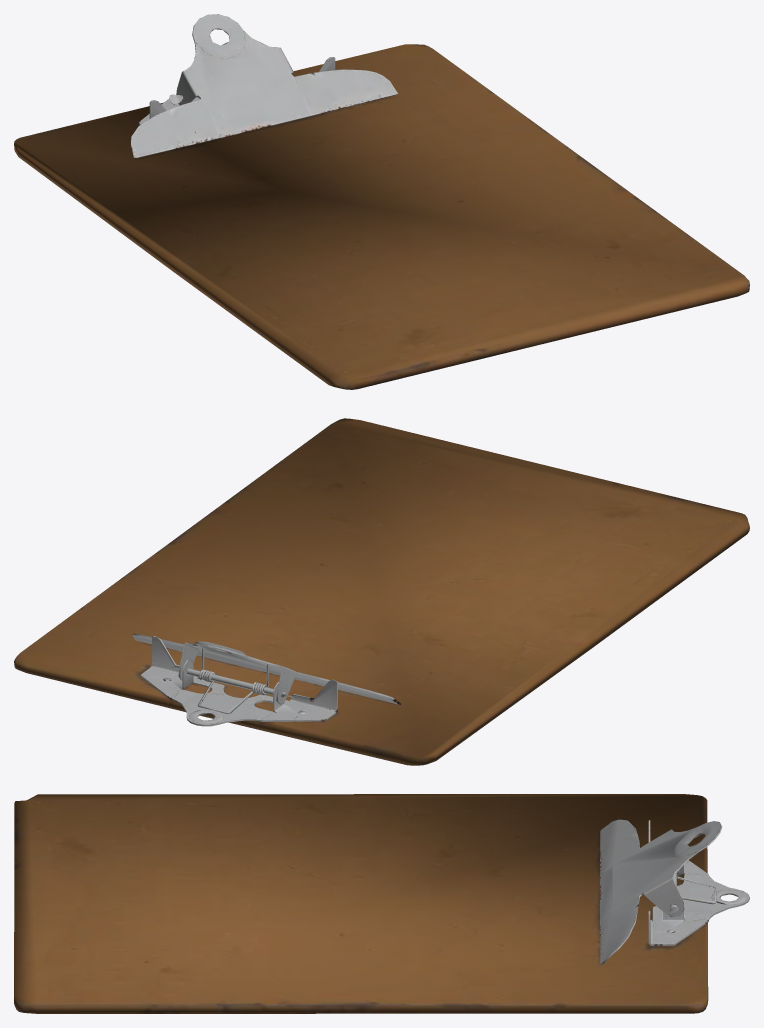
Rendered from clipboard.glb.
3 views of the same model, one above another, from view 1: azimuth 30°, elevation 25°; view 2: azimuth 150°, elevation 25°; view 3: azimuth 270°, elevation 25° (orthographic). The views are drawn at different scales.
Visible parts, largest first — view 1: clipboard; view 2: clipboard; view 3: clipboard.
Boxes of the visible parts, bbox=[...] form: clipboard: bbox=[14, 14, 749, 389]; clipboard: bbox=[14, 418, 749, 765]; clipboard: bbox=[14, 794, 749, 1013].
Size of the model in its own units: 0.2281 by 0.042 by 0.3364.
Materials: 1 (1 with a texture image).
